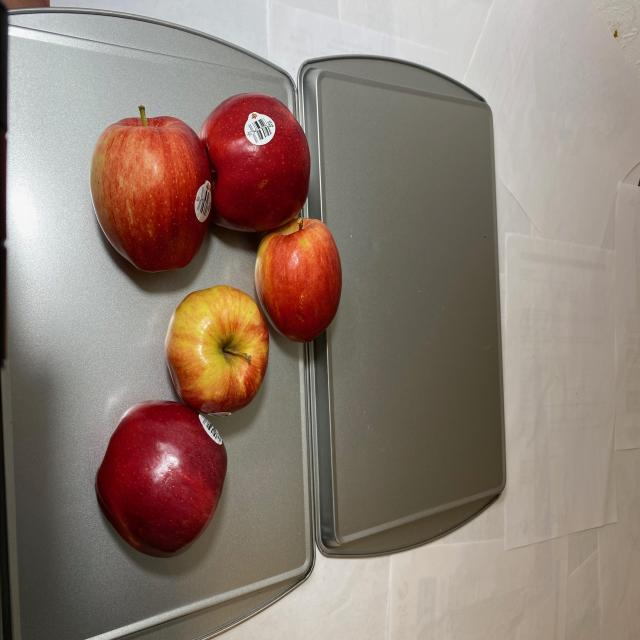apple: (77, 94, 343, 562)
